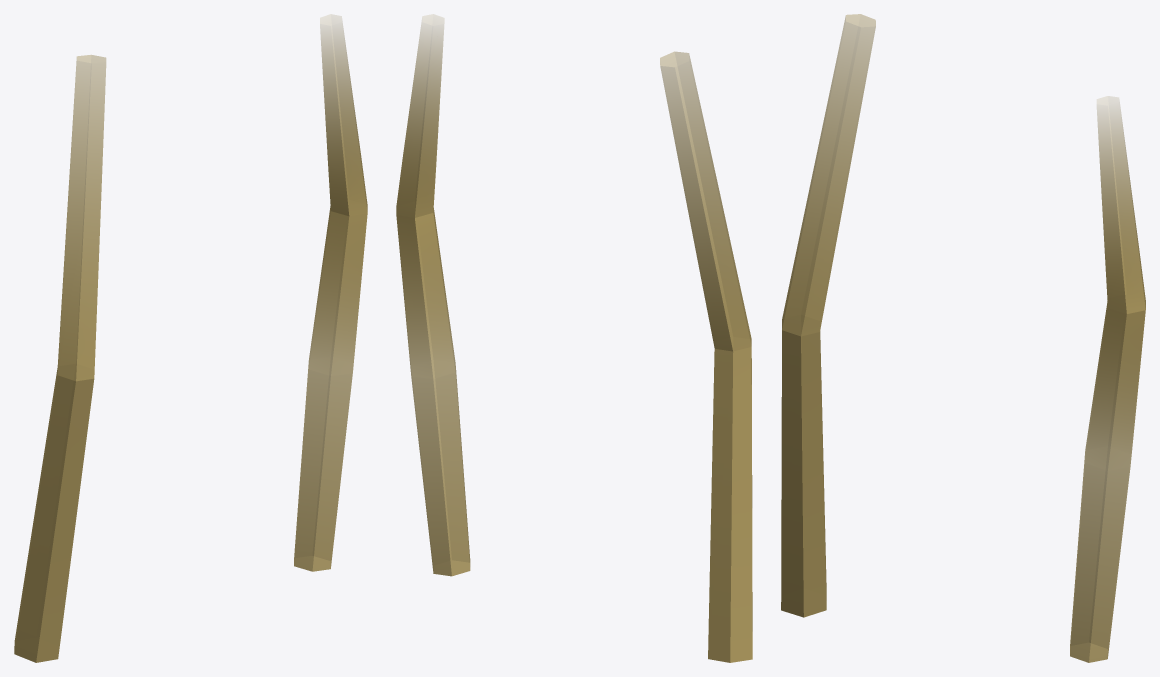
The picture shows the model from 3 angles, left to right: view 1: azimuth 30°, elevation 25°; view 2: azimuth 150°, elevation 25°; view 3: azimuth 330°, elevation 25°; orthographic projection. The views are drawn at different scales.
Parts seen in each view (by area): view 1: Imported HAIR group 0; view 2: Imported HAIR group 0; view 3: Imported HAIR group 0.
Boxes of the visible parts, box(x1,y1,x2,y2) form: Imported HAIR group 0: box(14, 14, 367, 662); Imported HAIR group 0: box(396, 14, 752, 662); Imported HAIR group 0: box(781, 14, 1145, 662).
Size of the model in its own units: 0.9597 by 1.52 by 0.1953.
